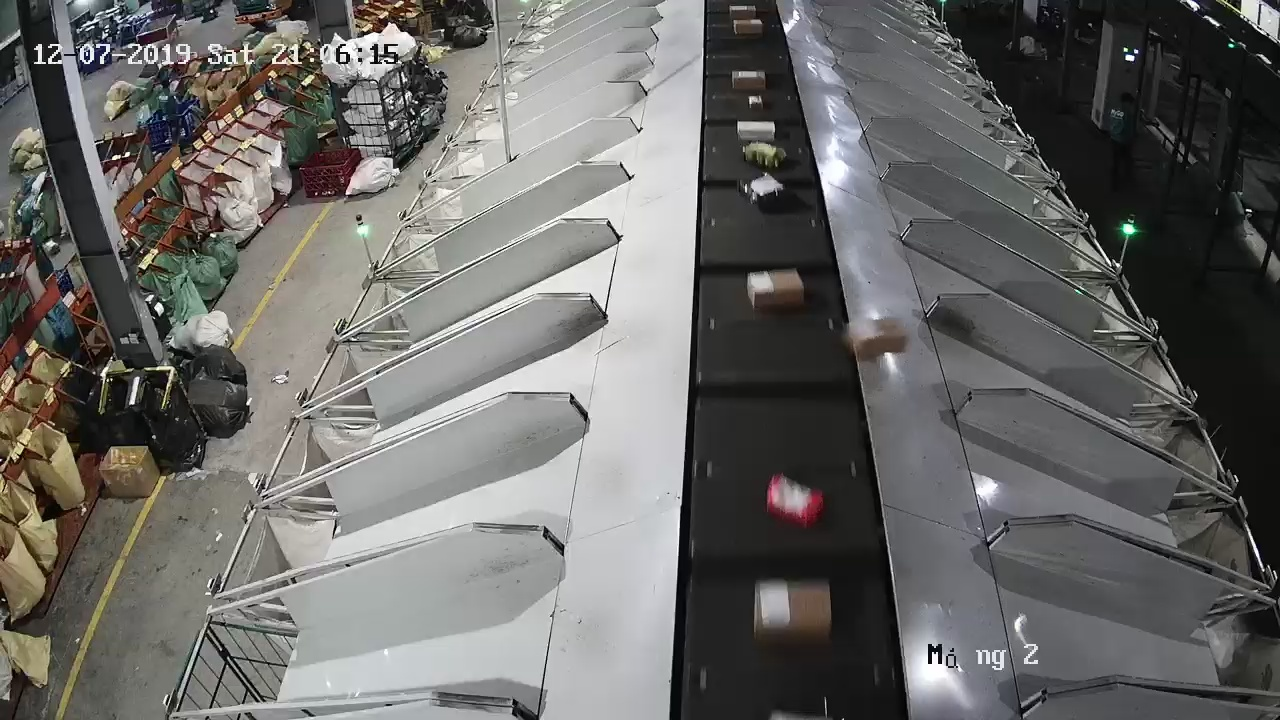parcel: (839, 317, 909, 361)
